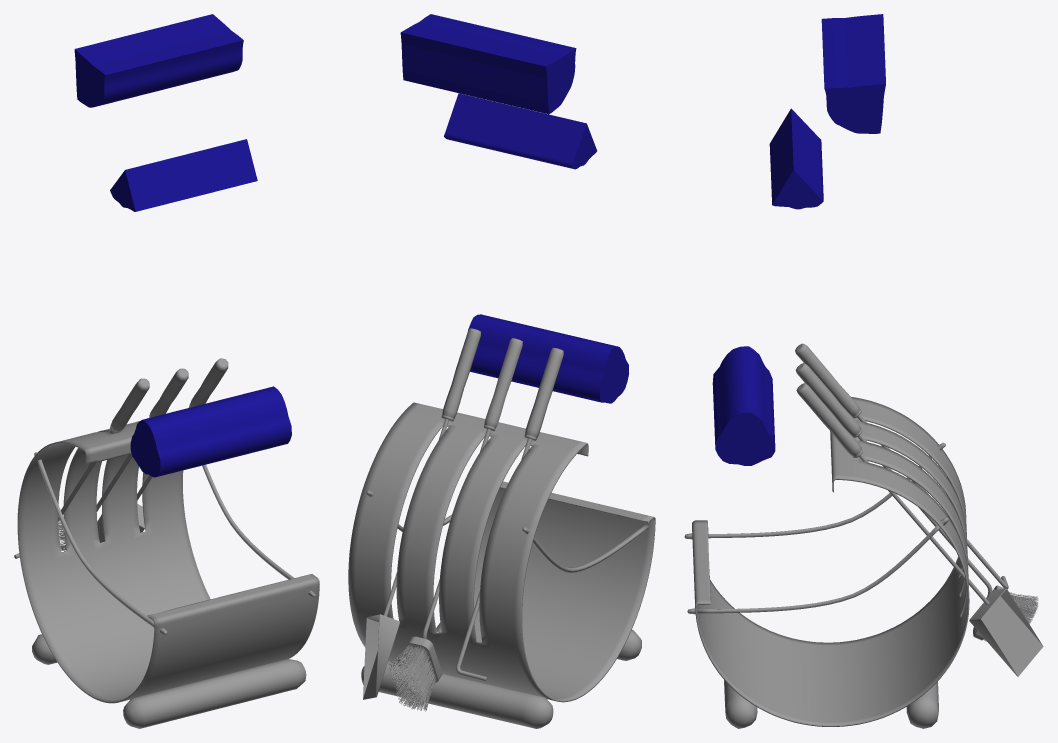
Rendered from CampWood_low.fbx.
3 views of the same model, side by side, from view 1: azimuth 30°, elevation 25°; view 2: azimuth 150°, elevation 25°; view 3: azimuth 270°, elevation 25° (orthographic). The views are drawn at different scales.
Visible parts, largest first — view 1: arch19_012_02_low, arch19_012_05_low, arch19_012_08_low, arch19_012_03_low, arch19_012_10_low, Object003_low, Object001_low, Object002_low; view 2: arch19_012_02_low, arch19_012_05_low, arch19_012_08_low, arch19_012_10_low, arch19_low (×3), arch19_012_03_low, Object001_low, Object003_low, Object002_low; view 3: arch19_012_02_low, arch19_012_05_low, arch19_012_08_low, arch19_low (×2), arch19_012_10_low, arch19_012_03_low, Object001_low, Object002_low, Object003_low.
Boxes of the visible parts, <box> form: arch19_012_02_low: <box>17,421,319,703</box>; arch19_012_05_low: <box>74,14,243,107</box>; arch19_012_08_low: <box>130,386,291,477</box>; arch19_012_03_low: <box>32,634,306,728</box>; arch19_012_10_low: <box>110,139,257,211</box>; Object003_low: <box>110,378,149,433</box>; Object001_low: <box>188,358,228,407</box>; Object002_low: <box>149,368,188,417</box>; arch19_012_02_low: <box>348,402,655,702</box>; arch19_012_05_low: <box>400,14,576,114</box>; arch19_012_08_low: <box>468,314,628,403</box>; arch19_012_10_low: <box>444,93,597,169</box>; arch19_low (×3): <box>363,419,531,711</box>; arch19_012_03_low: <box>361,629,641,728</box>; Object001_low: <box>441,328,480,421</box>; Object003_low: <box>524,347,563,440</box>; Object002_low: <box>484,338,522,431</box>; arch19_012_02_low: <box>684,397,969,726</box>; arch19_012_05_low: <box>821,14,885,133</box>; arch19_012_08_low: <box>712,346,775,465</box>; arch19_low (×2): <box>857,434,1043,676</box>; arch19_012_10_low: <box>769,108,823,209</box>; arch19_012_03_low: <box>724,680,938,728</box>; Object001_low: <box>796,383,862,457</box>; Object002_low: <box>795,363,862,437</box>; Object003_low: <box>795,343,861,418</box>.
Bounding box in the file's own units: 22.07 × 71.88 × 36.53.
